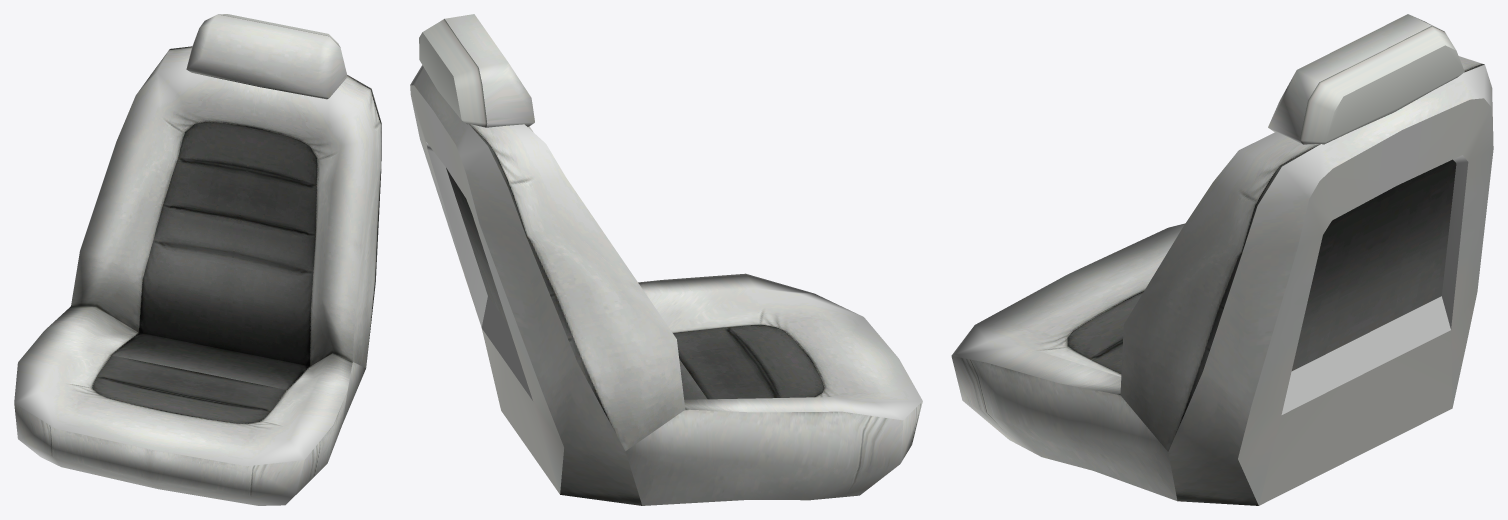
File: Seat.fbx
The picture shows the model from 3 angles, left to right: view 1: azimuth 30°, elevation 25°; view 2: azimuth 150°, elevation 25°; view 3: azimuth 270°, elevation 25°; orthographic projection. The views are drawn at different scales.
Visible parts, largest first — view 1: node_id50; view 2: node_id50; view 3: node_id50.
Boxes of the visible parts, x1,y1,x2,y2 form: node_id50: (14, 14, 381, 505); node_id50: (410, 14, 922, 505); node_id50: (951, 14, 1493, 505).
Bounding box in the file's own units: 0.6128 × 0.5554 × 0.5748.
Materials: 1 (1 with a texture image).
